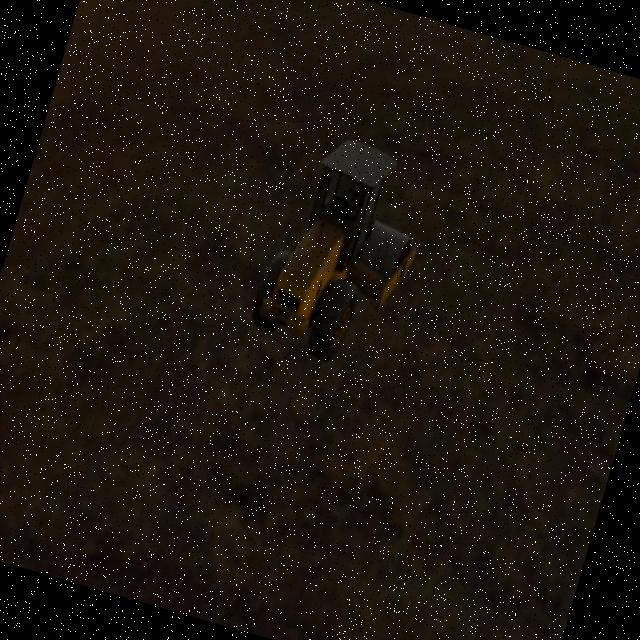Roller: (242, 125, 440, 378)
